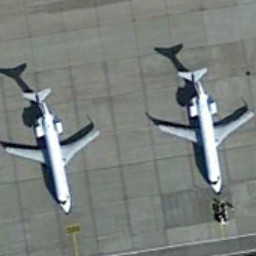Airplane: (150, 62, 254, 201), (1, 80, 105, 216)
